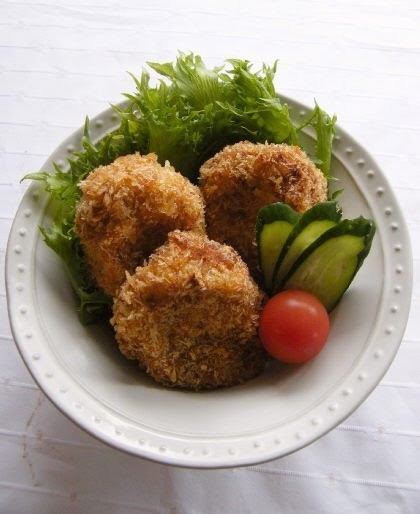background: (13, 40, 247, 314)
